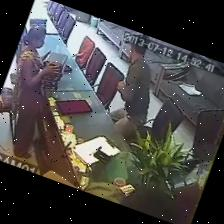person: (13, 26, 58, 158), (109, 45, 151, 139), (120, 188, 181, 223)
